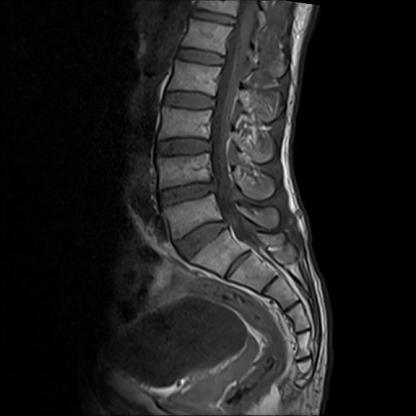Disc Bulgerotation: (170, 219, 238, 253)
